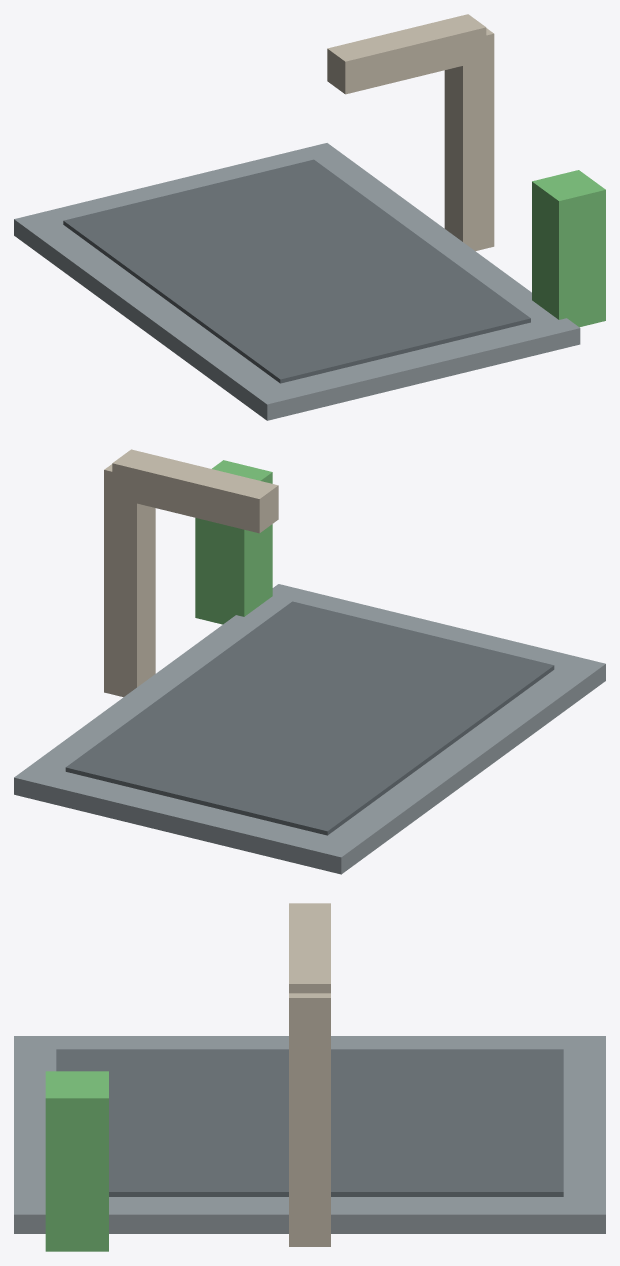
File: sink.glb
3 renders of one model, top to bottom at view 1: azimuth 30°, elevation 25°; view 2: azimuth 150°, elevation 25°; view 3: azimuth 270°, elevation 25°, orthographic. The views are drawn at different scales.
Visible parts, largest first — view 1: Box2, Box1, Box5, Box3, Box4; view 2: Box2, Box1, Box3, Box4, Box5; view 3: Box2, Box1, Box5, Box3, Box4.
Part boxes in pixels (x1=…): Box2: x1=63, y1=159, x2=530, y2=383; Box1: x1=14, y1=143, x2=580, y2=420; Box5: x1=532, y1=170, x2=605, y2=327; Box3: x1=444, y1=28, x2=494, y2=251; Box4: x1=327, y1=14, x2=486, y2=94; Box2: x1=65, y1=601, x2=554, y2=835; Box1: x1=14, y1=584, x2=605, y2=874; Box3: x1=104, y1=464, x2=155, y2=697; Box4: x1=112, y1=449, x2=278, y2=533; Box5: x1=195, y1=460, x2=272, y2=624; Box2: x1=56, y1=1049, x2=563, y2=1196; Box1: x1=14, y1=1036, x2=605, y2=1233; Box5: x1=45, y1=1071, x2=108, y2=1251; Box3: x1=289, y1=993, x2=330, y2=1246; Box4: x1=289, y1=903, x2=330, y2=993.
Bounding box in the file's own units: 0.45 × 0.275 × 0.56.
